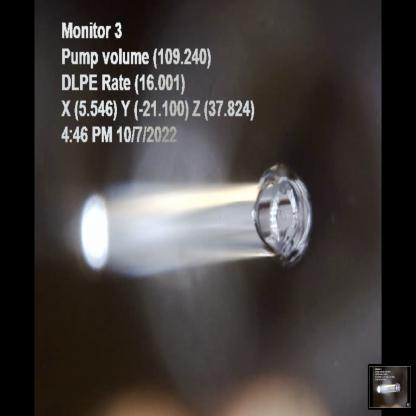Droplet: (254, 165, 315, 270)
